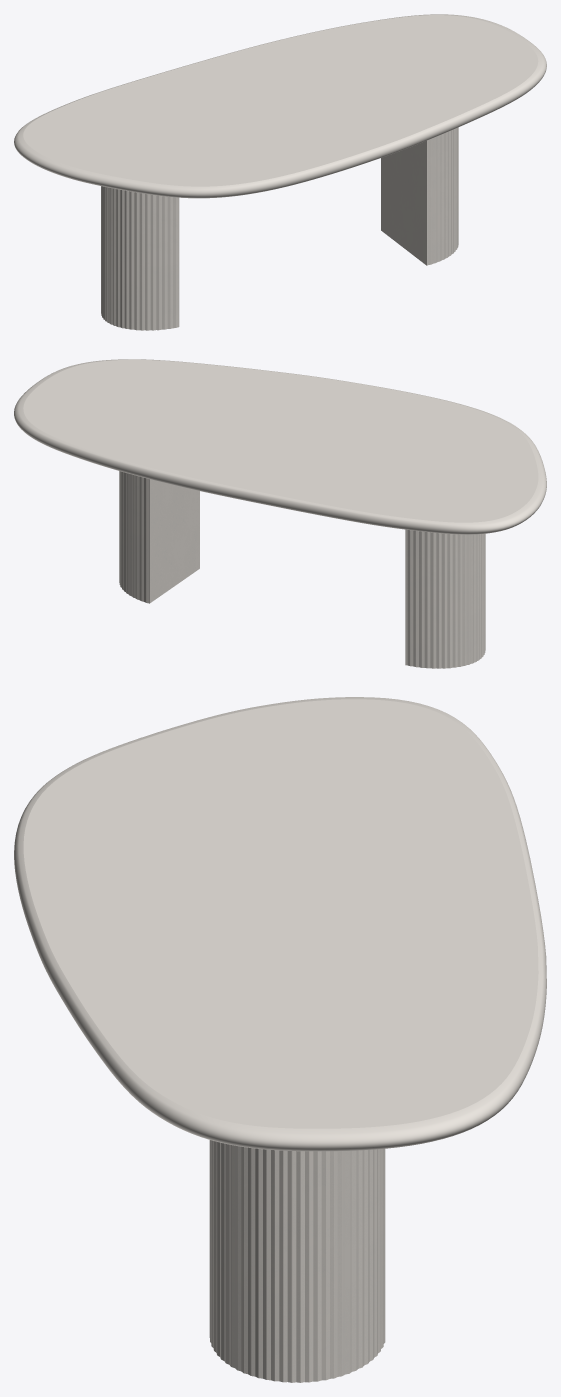
Rendered from pearlwhite_leaf2_round_flute.glb.
3 views of the same model, one above another, from view 1: azimuth 30°, elevation 25°; view 2: azimuth 150°, elevation 25°; view 3: azimuth 270°, elevation 25° (orthographic). The views are drawn at different scales.
Visible parts, largest first — view 1: round_leaf2, flute; view 2: round_leaf2, flute; view 3: round_leaf2, flute.
Part boxes in pixels (bbox=[...]): round_leaf2: bbox=[14, 14, 546, 198]; flute: bbox=[101, 127, 458, 330]; round_leaf2: bbox=[14, 359, 546, 534]; flute: bbox=[119, 471, 485, 668]; round_leaf2: bbox=[14, 697, 546, 1151]; flute: bbox=[209, 1140, 385, 1382].
Bounding box in the file's own units: 7.5 × 2.52 × 3.8.
Materials: 1 (1 with a texture image).
